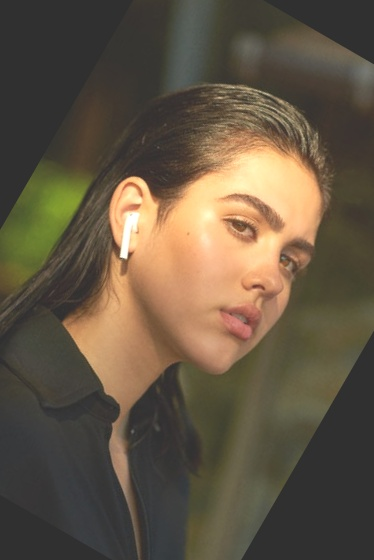earphone: (90, 170, 171, 259)
